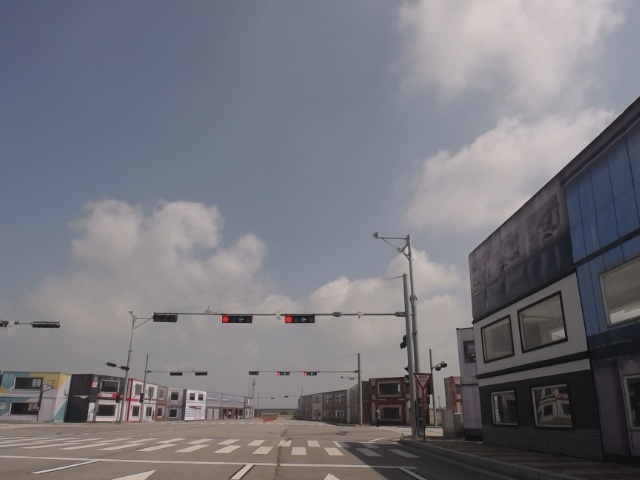left_green_4: (221, 315, 253, 323), (284, 316, 315, 323)
